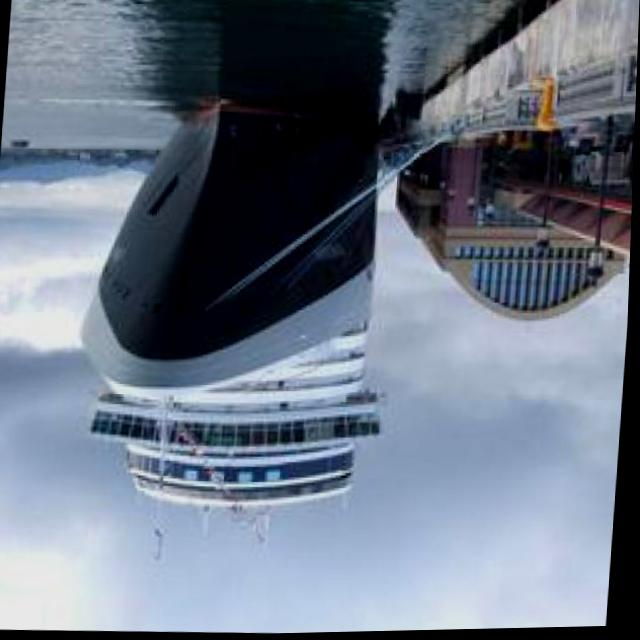ship2: (82, 98, 385, 558)
